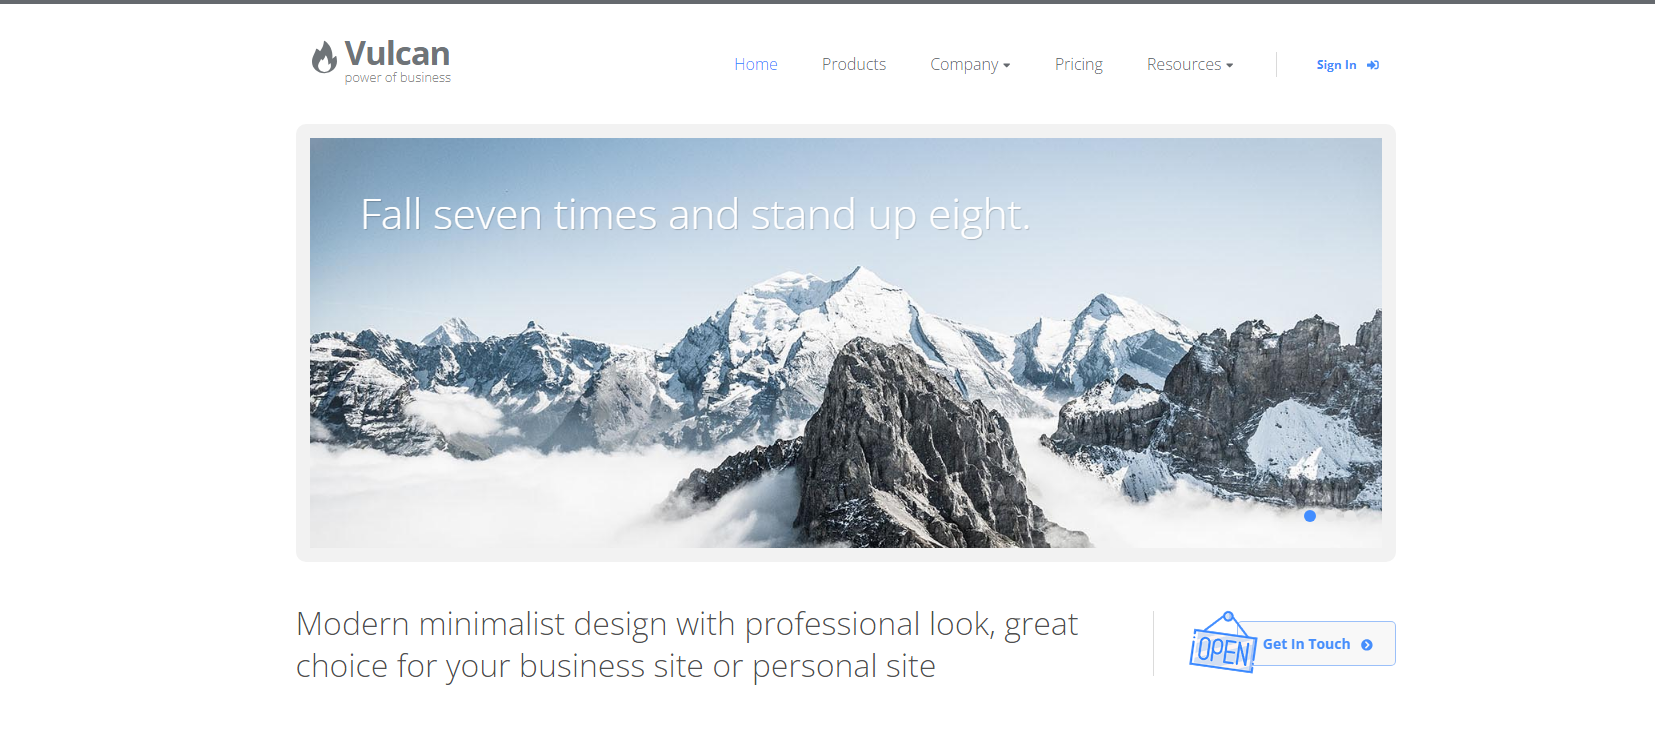menu: (24, 12, 1655, 230)
